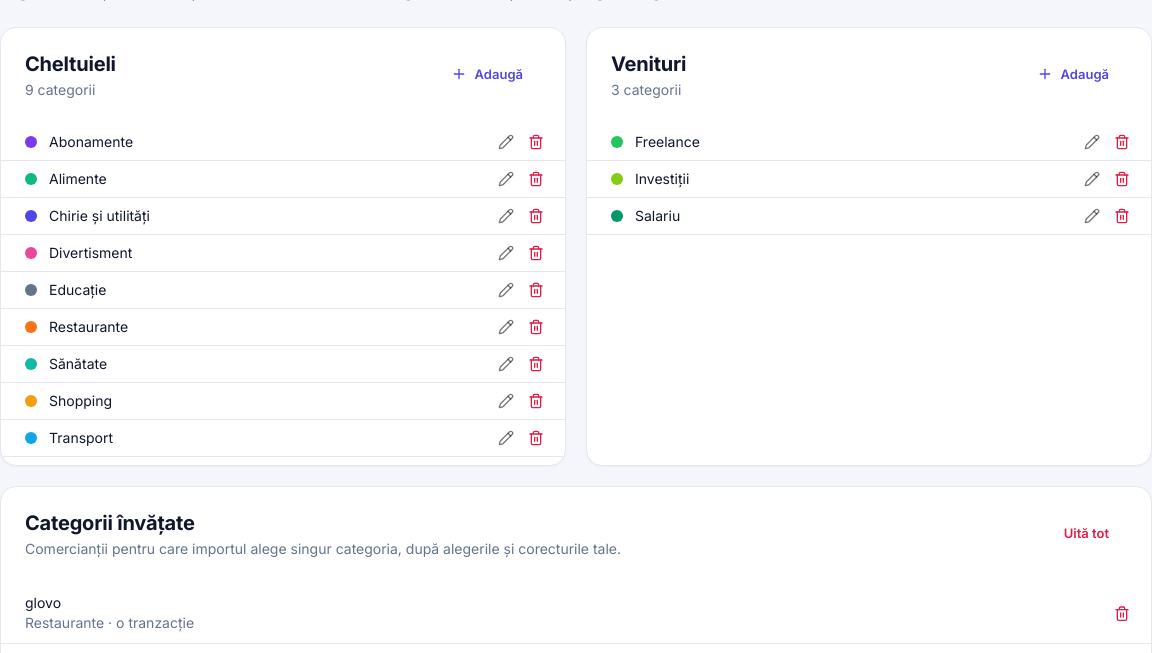
Test: CategoriesPage › arată categoriile învățate și permite uitarea lor
This screenshot has width=1152, height=653.
Expected: the text "glovo" is shown, [25,594,61,611]
Expected: the text "Restaurante · o tranzacție" is shown, [25,614,194,631]
Click the button named "Uită glovo": point(1122, 614) [1109,600,1135,626]
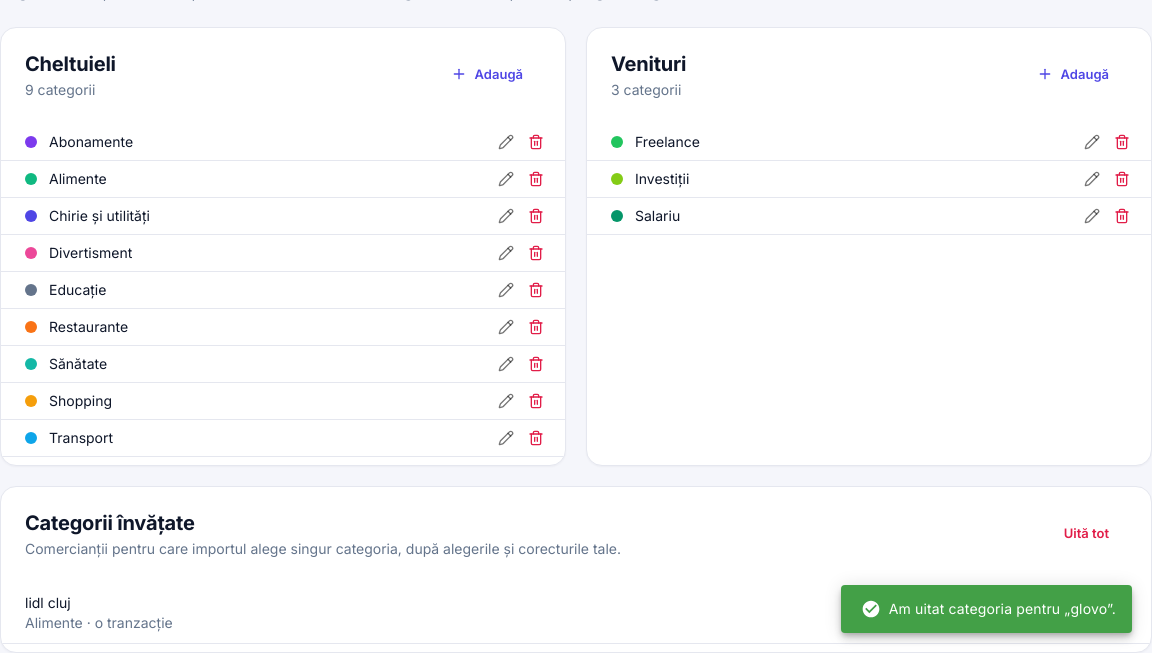
Expected: the text "lidl cluj" is shown, [25,594,71,611]
Click the button "Uită tot": point(1086, 533) [1046,518,1127,549]
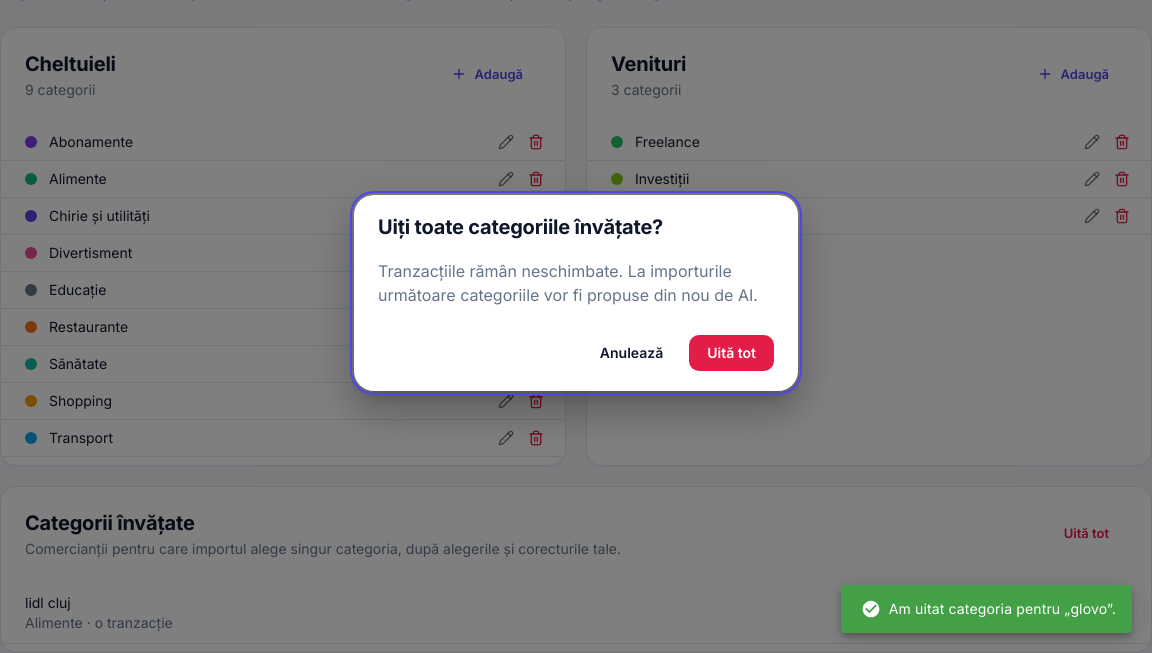
Click the button "Uită tot": point(732, 353) [689,335,774,371]
(page scrolled)
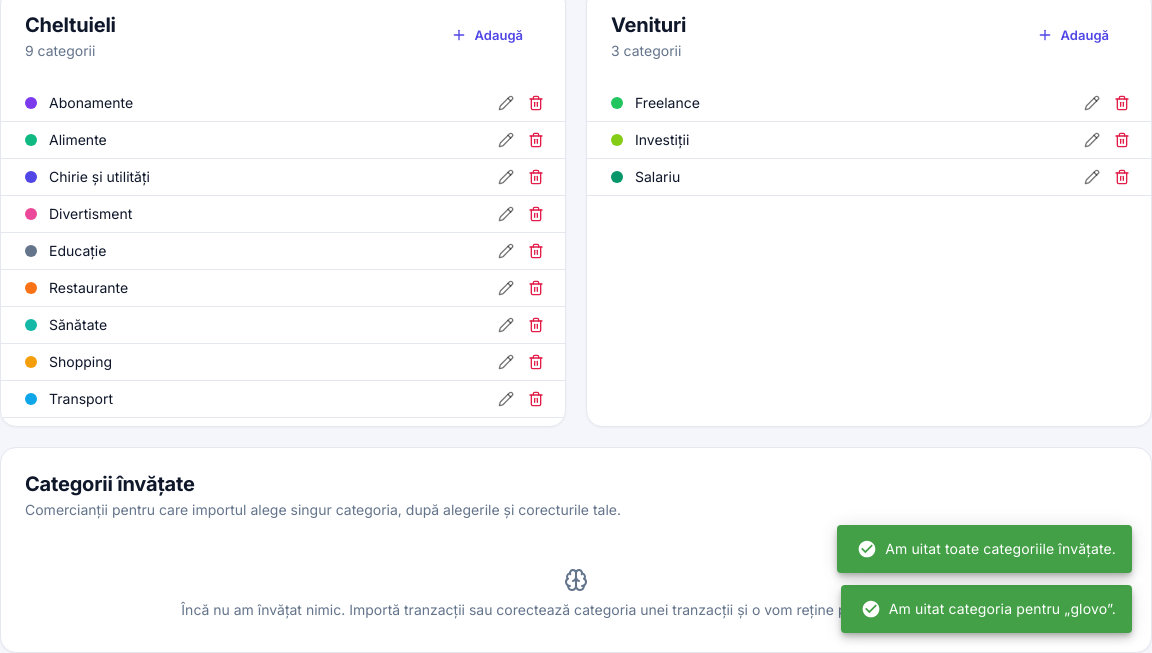
Expected: the text "Încă nu am învățat nimic" is shown, [181,601,971,618]
